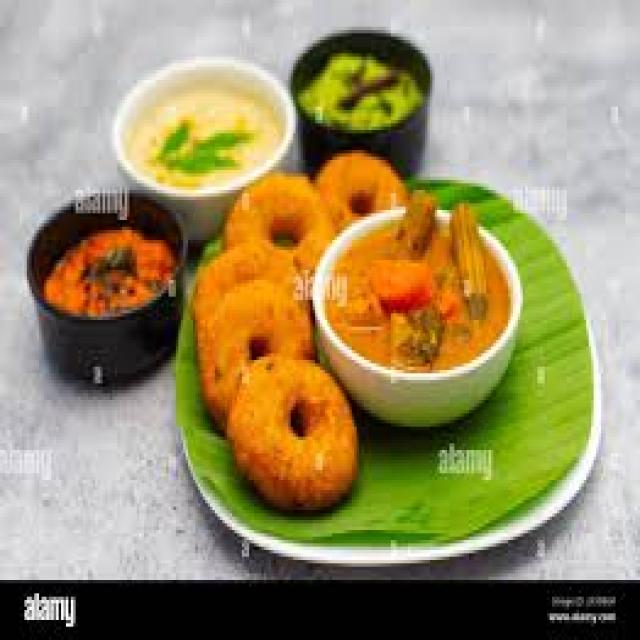MEDU VADA: (227, 360, 354, 503), (200, 277, 313, 413), (195, 237, 293, 367), (227, 173, 335, 267), (315, 150, 408, 230)
